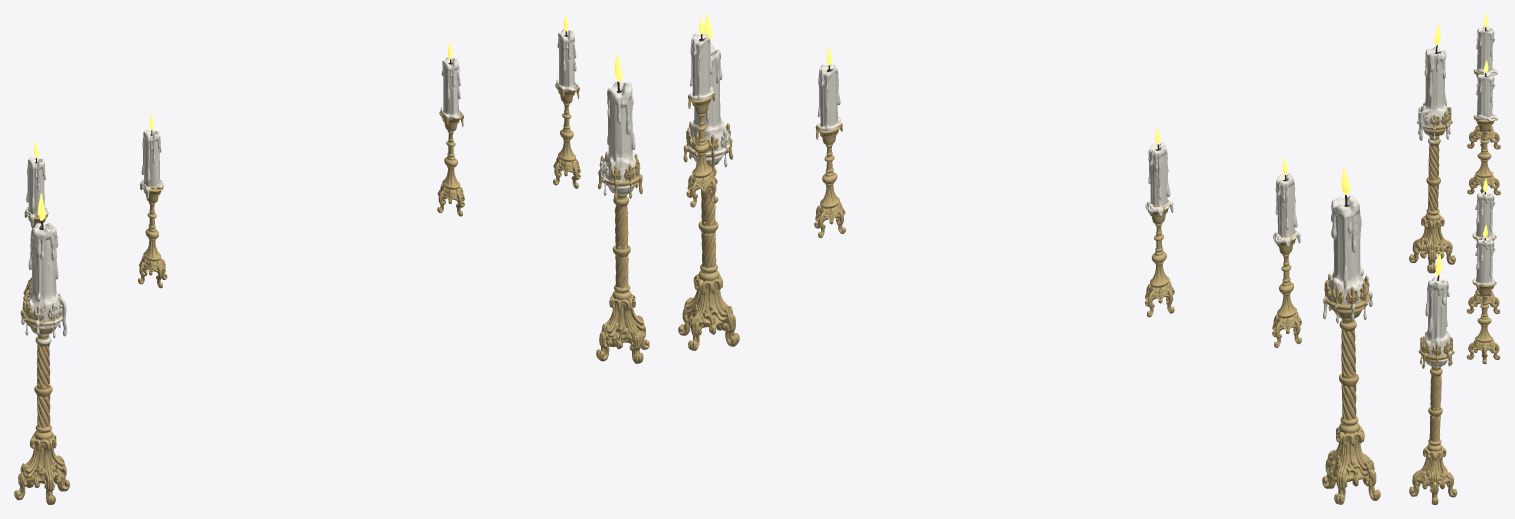
File: altar-candles-runtime.glb
3 views of the same model, side by side, from view 1: azimuth 30°, elevation 25°; view 2: azimuth 150°, elevation 25°; view 3: azimuth 270°, elevation 25° (orthographic). The views are drawn at different scales.
Visible parts, largest first — view 1: WEB_ALTAR_ACC_HYPER3D_LARGE_LEFT_MASTER.001, WEB_ALTAR_ACC_HYPER3D_LARGE_RIGHT_MASTER.001, WEB_ALTAR_ACC_HYPER3D_MEDIUM_LEFT_ARCH3_MASTER.001, WEB_ALTAR_ACC_HYPER3D_MEDIUM_RIGHT_ARCH3_MASTER.001, WEB_ALTAR_ACC_HYPER3D_MEDIUM_RIGHT_MASTER.001, WEB_ALTAR_ACC_HYPER3D_MEDIUM_LEFT_MASTER.001; view 2: WEB_ALTAR_ACC_HYPER3D_LARGE_LEFT_MASTER.001, WEB_ALTAR_ACC_HYPER3D_LARGE_RIGHT_MASTER.001, WEB_ALTAR_ACC_HYPER3D_MEDIUM_RIGHT_MASTER.001, WEB_ALTAR_ACC_HYPER3D_MEDIUM_RIGHT_ARCH3_MASTER.001, WEB_ALTAR_ACC_HYPER3D_MEDIUM_LEFT_ARCH3_MASTER.001, WEB_ALTAR_ACC_HYPER3D_MEDIUM_LEFT_MASTER.001; view 3: WEB_ALTAR_ACC_HYPER3D_LARGE_RIGHT_MASTER.001, WEB_ALTAR_ACC_HYPER3D_LARGE_LEFT_MASTER.001, WEB_ALTAR_ACC_HYPER3D_MEDIUM_RIGHT_MASTER.001, WEB_ALTAR_ACC_HYPER3D_MEDIUM_LEFT_ARCH3_MASTER.001, WEB_ALTAR_ACC_HYPER3D_MEDIUM_RIGHT_ARCH3_MASTER.001, WEB_ALTAR_ACC_HYPER3D_MEDIUM_LEFT_MASTER.001.
Boxes of the visible parts, box(x1,y1,x2,y2) form: WEB_ALTAR_ACC_HYPER3D_LARGE_LEFT_MASTER.001: box(14, 193, 69, 504); WEB_ALTAR_ACC_HYPER3D_LARGE_RIGHT_MASTER.001: box(596, 53, 649, 363); WEB_ALTAR_ACC_HYPER3D_MEDIUM_LEFT_ARCH3_MASTER.001: box(138, 113, 167, 288); WEB_ALTAR_ACC_HYPER3D_MEDIUM_RIGHT_ARCH3_MASTER.001: box(437, 42, 464, 216); WEB_ALTAR_ACC_HYPER3D_MEDIUM_RIGHT_MASTER.001: box(553, 14, 580, 188); WEB_ALTAR_ACC_HYPER3D_MEDIUM_LEFT_MASTER.001: box(22, 141, 48, 309); WEB_ALTAR_ACC_HYPER3D_LARGE_LEFT_MASTER.001: box(1322, 167, 1380, 504); WEB_ALTAR_ACC_HYPER3D_LARGE_RIGHT_MASTER.001: box(678, 14, 739, 350); WEB_ALTAR_ACC_HYPER3D_MEDIUM_RIGHT_MASTER.001: box(686, 17, 718, 207); WEB_ALTAR_ACC_HYPER3D_MEDIUM_RIGHT_ARCH3_MASTER.001: box(814, 48, 845, 237); WEB_ALTAR_ACC_HYPER3D_MEDIUM_LEFT_ARCH3_MASTER.001: box(1145, 127, 1174, 317); WEB_ALTAR_ACC_HYPER3D_MEDIUM_LEFT_MASTER.001: box(1272, 157, 1301, 347); WEB_ALTAR_ACC_HYPER3D_LARGE_RIGHT_MASTER.001: box(1409, 253, 1457, 504); WEB_ALTAR_ACC_HYPER3D_LARGE_LEFT_MASTER.001: box(1409, 24, 1455, 273); WEB_ALTAR_ACC_HYPER3D_MEDIUM_RIGHT_MASTER.001: box(1466, 225, 1500, 364); WEB_ALTAR_ACC_HYPER3D_MEDIUM_LEFT_ARCH3_MASTER.001: box(1467, 60, 1500, 195); WEB_ALTAR_ACC_HYPER3D_MEDIUM_RIGHT_ARCH3_MASTER.001: box(1466, 179, 1500, 313); WEB_ALTAR_ACC_HYPER3D_MEDIUM_LEFT_MASTER.001: box(1467, 14, 1500, 151).
Size of the model in its own units: 8.2 by 4.02 by 1.27.
